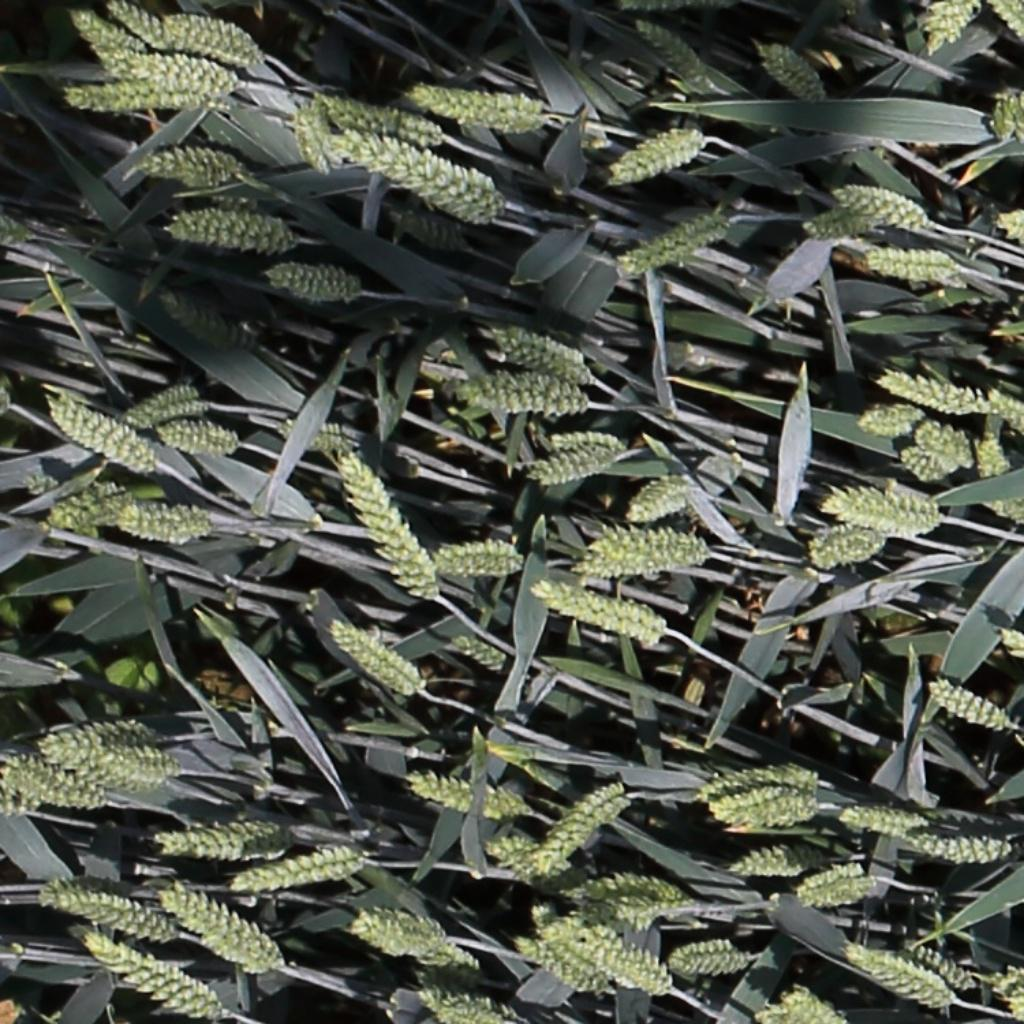0-0: (333, 446, 444, 603), (333, 132, 500, 221), (151, 884, 287, 980), (34, 869, 189, 946), (79, 932, 215, 1018), (506, 779, 628, 873), (107, 2, 267, 71), (45, 394, 161, 479), (614, 211, 734, 278), (528, 584, 662, 640), (0, 753, 112, 820), (558, 859, 694, 913), (821, 475, 940, 535), (152, 819, 290, 869), (329, 622, 423, 695), (233, 841, 370, 891), (64, 80, 235, 120), (412, 84, 554, 132), (879, 372, 1024, 419), (578, 940, 688, 1001), (312, 91, 441, 143), (844, 942, 949, 1004), (37, 485, 154, 540), (401, 769, 524, 820), (460, 374, 601, 418), (165, 204, 297, 251), (607, 127, 707, 189), (98, 53, 236, 96), (350, 913, 467, 962), (696, 760, 826, 804), (492, 327, 595, 382), (632, 15, 709, 88), (39, 741, 161, 786), (863, 240, 966, 292), (521, 929, 610, 988), (156, 288, 246, 345), (134, 145, 253, 188), (794, 864, 898, 911), (715, 788, 822, 832), (118, 500, 211, 550), (39, 720, 157, 759), (925, 679, 1010, 731), (533, 909, 628, 955), (591, 529, 716, 563), (834, 181, 928, 226), (432, 535, 523, 581), (265, 262, 362, 305), (907, 833, 1019, 869), (448, 99, 559, 135), (726, 845, 819, 887), (757, 43, 823, 102), (409, 984, 522, 1018), (805, 525, 890, 570), (663, 938, 758, 978), (571, 551, 697, 581), (123, 381, 209, 422), (904, 941, 973, 991), (290, 96, 330, 180), (481, 829, 577, 864), (575, 898, 682, 929), (69, 9, 140, 55), (151, 421, 242, 455), (354, 908, 435, 946), (913, 417, 972, 468), (853, 401, 925, 442), (921, 1, 976, 54), (527, 449, 618, 480), (275, 412, 353, 448), (841, 806, 937, 834), (394, 211, 461, 248), (626, 484, 696, 517), (760, 993, 838, 1022), (990, 963, 1024, 1021), (449, 636, 506, 670), (898, 445, 953, 479), (977, 424, 1006, 484), (802, 211, 869, 236), (989, 390, 1024, 436), (989, 0, 1024, 43), (434, 1006, 509, 1024), (546, 432, 621, 449), (996, 629, 1024, 671), (996, 211, 1024, 251), (0, 211, 35, 241), (984, 498, 1024, 524), (1003, 84, 1024, 126)
